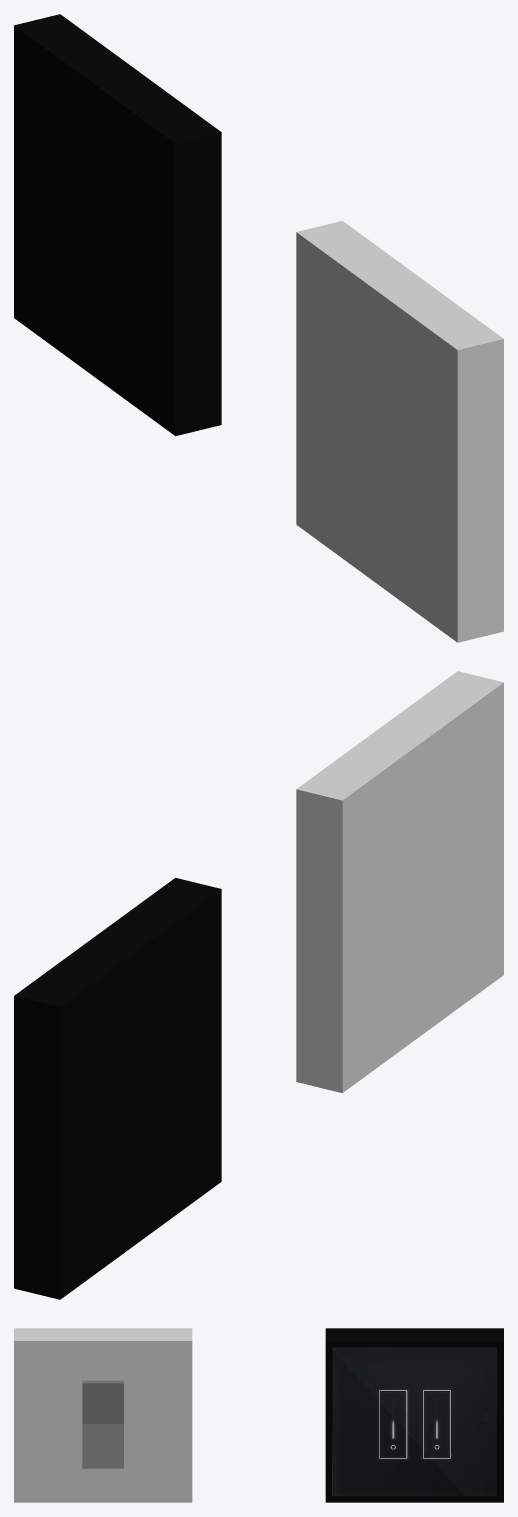
The model's file is Light Switches.fbx.
3 renders of one model, top to bottom at view 1: azimuth 30°, elevation 25°; view 2: azimuth 150°, elevation 25°; view 3: azimuth 270°, elevation 25°, orthographic. The views are drawn at different scales.
Visible parts, largest first — view 1: Cube, Cube.003; view 2: Cube, Cube.003; view 3: Cube.003, Cube, Cube.001.
Part boxes in pixels (x1=…): Cube: x1=296, y1=220, x2=503, y2=642; Cube.003: x1=14, y1=14, x2=221, y2=436; Cube: x1=296, y1=671, x2=503, y2=1093; Cube.003: x1=14, y1=877, x2=221, y2=1299; Cube.003: x1=325, y1=1328, x2=503, y2=1502; Cube: x1=14, y1=1328, x2=192, y2=1502; Cube.001: x1=82, y1=1380, x2=123, y2=1468.
Size of the model in its own units: 38.53 by 139 by 383.
3 materials, 1 textured.
